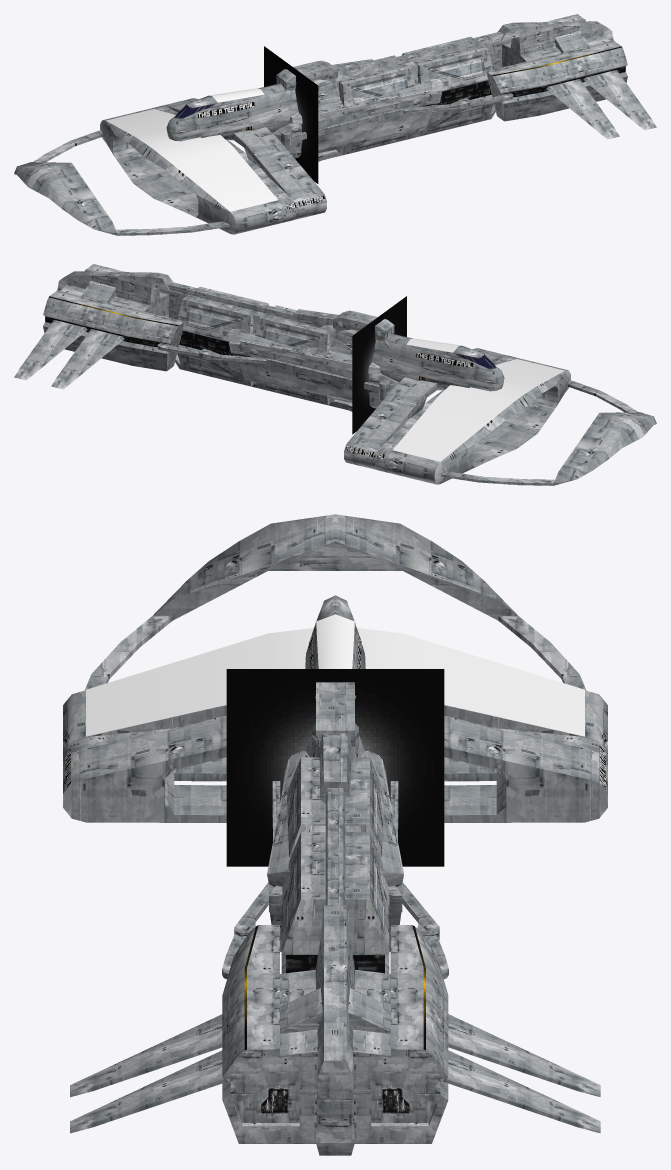
Rendered from OriginalTT.obj.
The picture shows the model from 3 angles, top to bottom: view 1: azimuth 30°, elevation 25°; view 2: azimuth 150°, elevation 25°; view 3: azimuth 270°, elevation 25°; orthographic projection. The views are drawn at different scales.
Visible parts, largest first — view 1: T_TRADER_WING_0, T_TRADER_PROF_0, T_TRADER_HULL_0, BACK0.002, DECAL010.009, WINGS_L0, LFRED010.003, DECAL020.006, LFGREEN010.003, HINGE010, DECAL030.006, NAMEDECAL0.010; view 2: T_TRADER_WING_0, T_TRADER_PROF_0, T_TRADER_HULL_0, BACK0.002, DECAL020.006, WINGS_R0, LFGREEN010.003, DECAL010.009, HINGE020, DECAL030.006, NAMEDECAL0.010; view 3: T_TRADER_WING_0, BACK0.002, T_TRADER_PROF_0, LFRED010.003, LFGREEN010.003, DECAL010.009, DECAL020.006, WINGS_L0, WINGS_R0, T_TRADER_HULL_0, DECAL030.006.
Part boxes in pixels (x1=…): T_TRADER_WING_0: x1=14, y1=98, x2=326, y2=235; T_TRADER_PROF_0: x1=244, y1=31, x2=503, y2=168; T_TRADER_HULL_0: x1=166, y1=61, x2=441, y2=158; BACK0.002: x1=482, y1=14, x2=627, y2=121; DECAL010.009: x1=151, y1=135, x2=277, y2=211; WINGS_L0: x1=546, y1=70, x2=656, y2=139; LFRED010.003: x1=295, y1=77, x2=318, y2=183; DECAL020.006: x1=106, y1=109, x2=175, y2=146; LFGREEN010.003: x1=264, y1=46, x2=313, y2=91; HINGE010: x1=403, y1=98, x2=471, y2=113; DECAL030.006: x1=209, y1=88, x2=264, y2=102; NAMEDECAL0.010: x1=197, y1=102, x2=254, y2=117; T_TRADER_WING_0: x1=344, y1=348, x2=656, y2=485; T_TRADER_PROF_0: x1=167, y1=281, x2=426, y2=418; T_TRADER_HULL_0: x1=228, y1=311, x2=504, y2=408; BACK0.002: x1=43, y1=264, x2=188, y2=371; DECAL020.006: x1=393, y1=385, x2=519, y2=461; WINGS_R0: x1=14, y1=320, x2=124, y2=389; LFGREEN010.003: x1=352, y1=296, x2=406, y2=434; DECAL010.009: x1=495, y1=359, x2=564, y2=396; HINGE020: x1=199, y1=348, x2=267, y2=363; DECAL030.006: x1=406, y1=338, x2=461, y2=352; NAMEDECAL0.010: x1=416, y1=352, x2=473, y2=367; T_TRADER_WING_0: x1=63, y1=514, x2=607, y2=822; BACK0.002: x1=222, y1=905, x2=448, y2=1155; T_TRADER_PROF_0: x1=272, y1=682, x2=398, y2=973; LFRED010.003: x1=231, y1=669, x2=444, y2=866; LFGREEN010.003: x1=226, y1=669, x2=435, y2=866; DECAL010.009: x1=86, y1=628, x2=313, y2=736; DECAL020.006: x1=357, y1=628, x2=584, y2=736; WINGS_L0: x1=70, y1=1014, x2=227, y2=1133; WINGS_R0: x1=443, y1=1014, x2=600, y2=1133; T_TRADER_HULL_0: x1=267, y1=595, x2=403, y2=951; DECAL030.006: x1=316, y1=614, x2=354, y2=668.
Size of the model in its own units: 148 by 25.86 by 60.03.
Materials: 24 (24 with a texture image).
